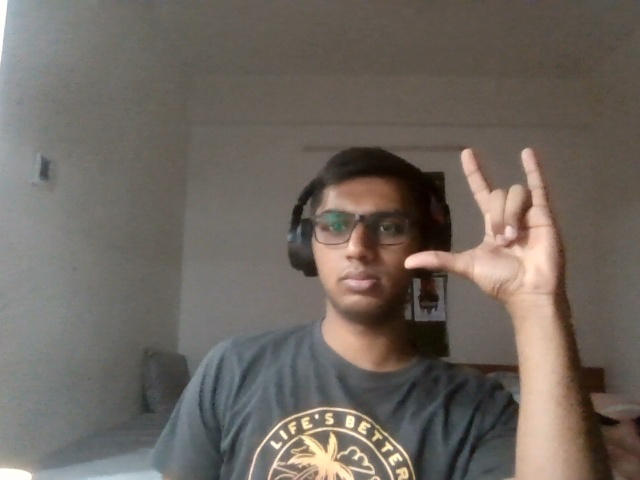iloveyou: (395, 130, 590, 328)
